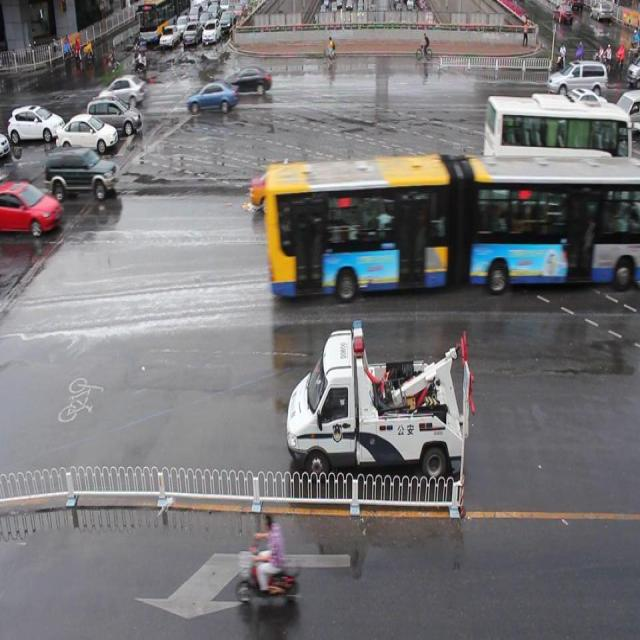car: (574, 180, 640, 250), (249, 163, 318, 217), (546, 85, 607, 127), (187, 81, 238, 116), (226, 69, 272, 96)
truck: (546, 60, 606, 104)
van: (271, 155, 640, 282), (485, 94, 631, 212)
